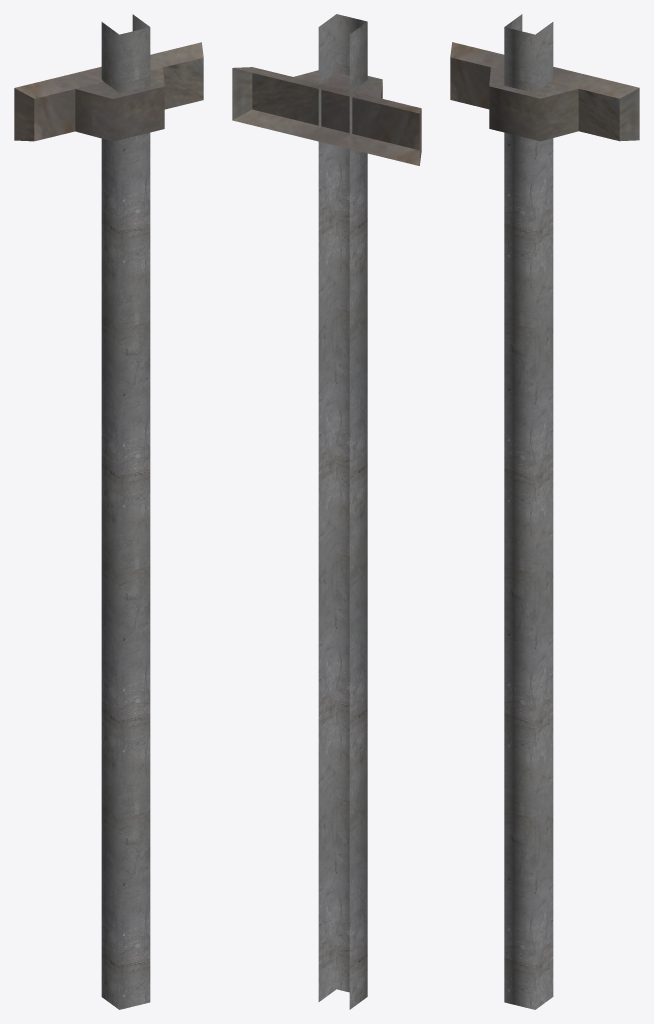
The model's file is p_glo_electrical_pipes_short_LOD1.obj.
The picture shows the model from 3 angles, left to right: view 1: azimuth 30°, elevation 25°; view 2: azimuth 150°, elevation 25°; view 3: azimuth 330°, elevation 25°; orthographic projection.
Visible parts, largest first — view 1: mtl_p_rus_pipes_modular; view 2: mtl_p_rus_pipes_modular; view 3: mtl_p_rus_pipes_modular.
Part boxes in pixels (left/top/right/bottom): mtl_p_rus_pipes_modular: left=14, top=14, right=203, bottom=1009; mtl_p_rus_pipes_modular: left=232, top=14, right=421, bottom=1009; mtl_p_rus_pipes_modular: left=450, top=14, right=639, bottom=1009.
Size of the model in its own units: 12.27 by 60.96 by 3.51.
